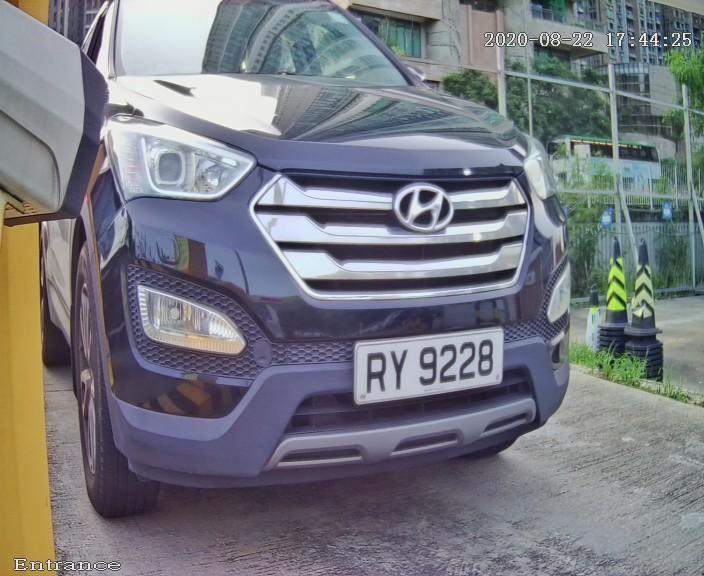Car: (19, 8, 613, 525)
License Plate: (311, 320, 515, 427)
